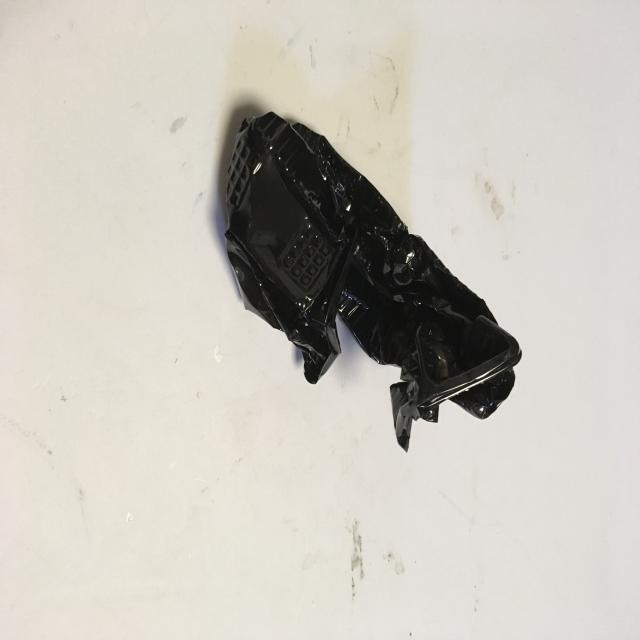plastic: (217, 103, 524, 457)
